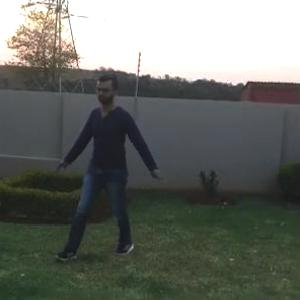land: (55, 69, 173, 267)
